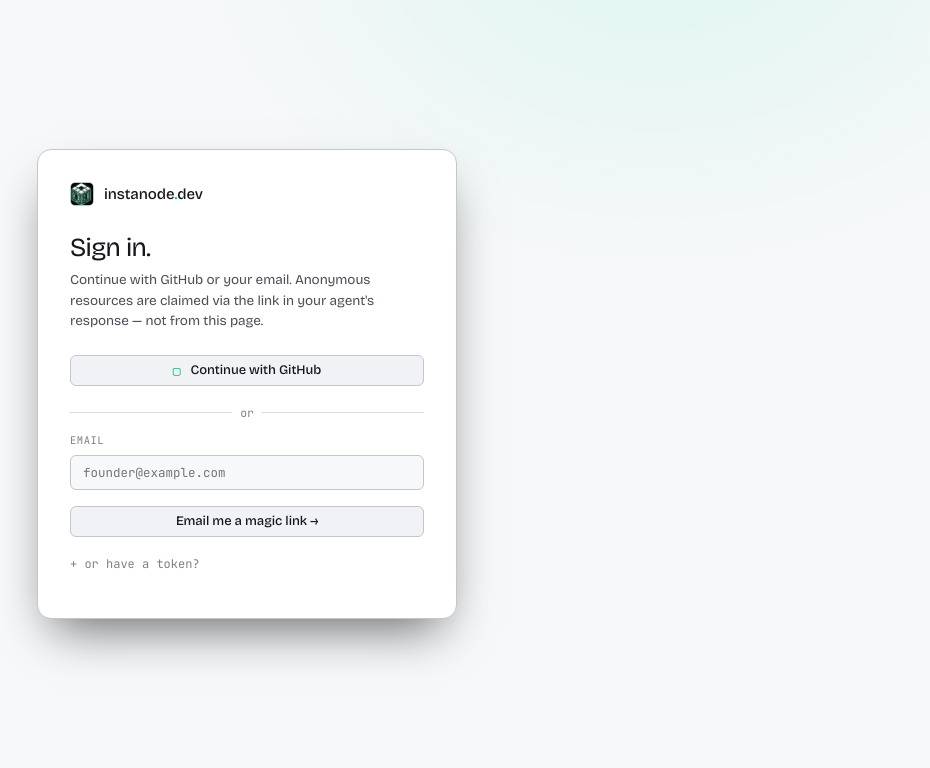
Test: LoginPage › toggles the PAT token form
This screenshot has width=930, height=768.
What coordinates should you click on to do the following:
click the button with test id "toggle-token-form"
I would click on:
 (135, 564)
Its box is [70, 556, 424, 572].
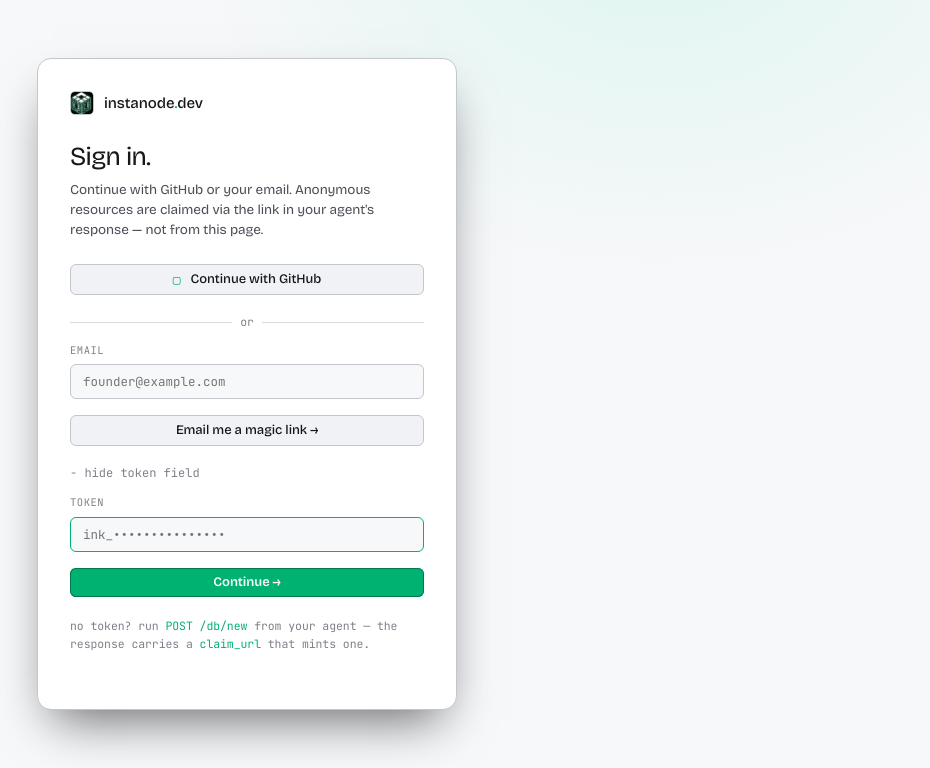
Result: the password field with test id "token-input" is shown at [70, 517, 424, 552]
